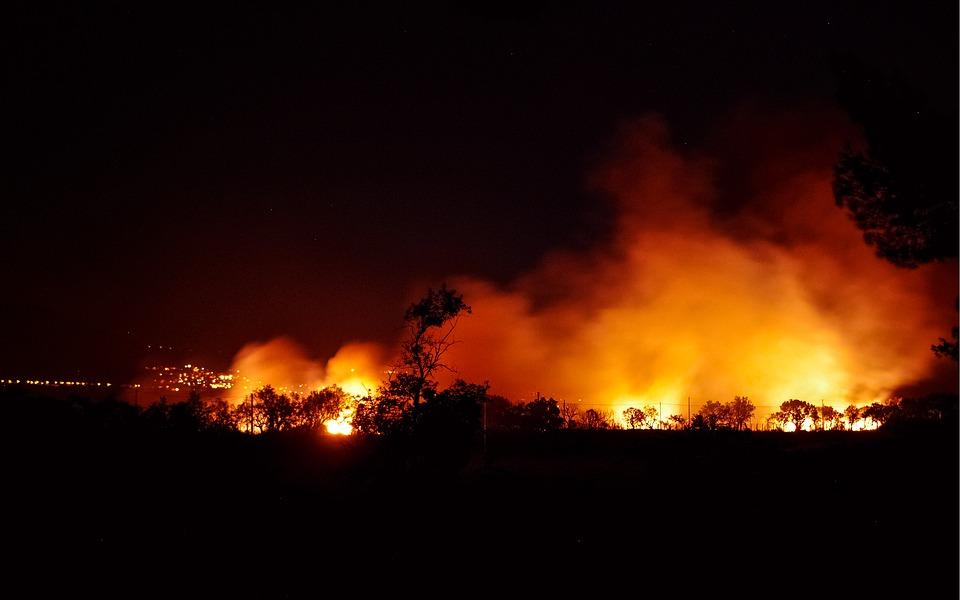Fire: (756, 352, 904, 439), (597, 369, 697, 437), (324, 364, 382, 439), (228, 374, 288, 439)
